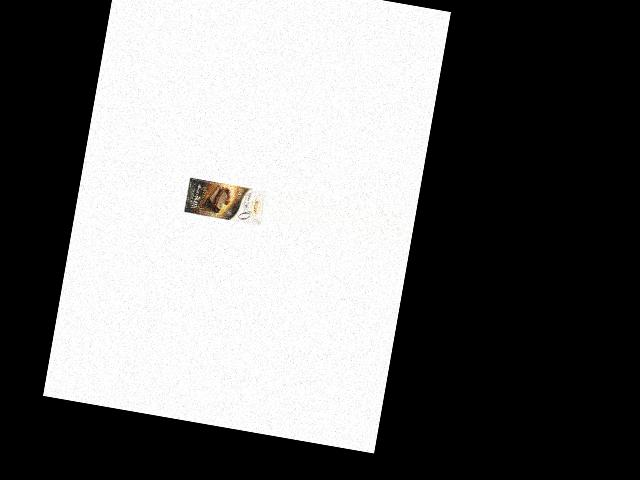chocolate: (182, 176, 266, 228)
